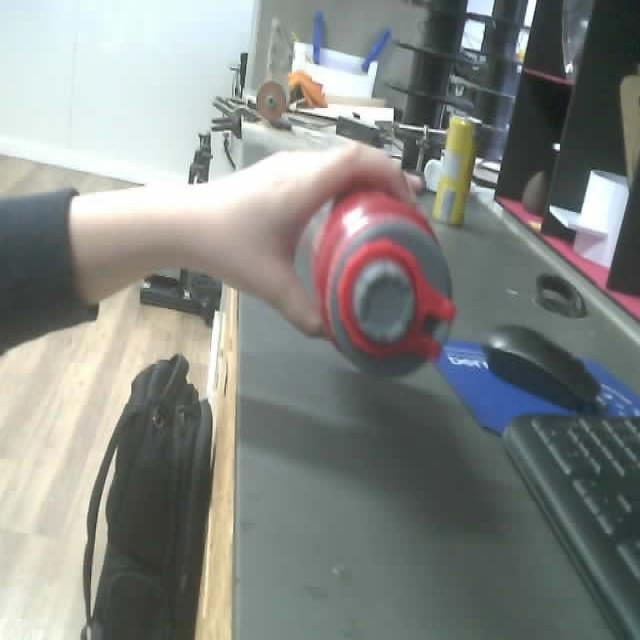water bottle: (296, 185, 456, 378)
